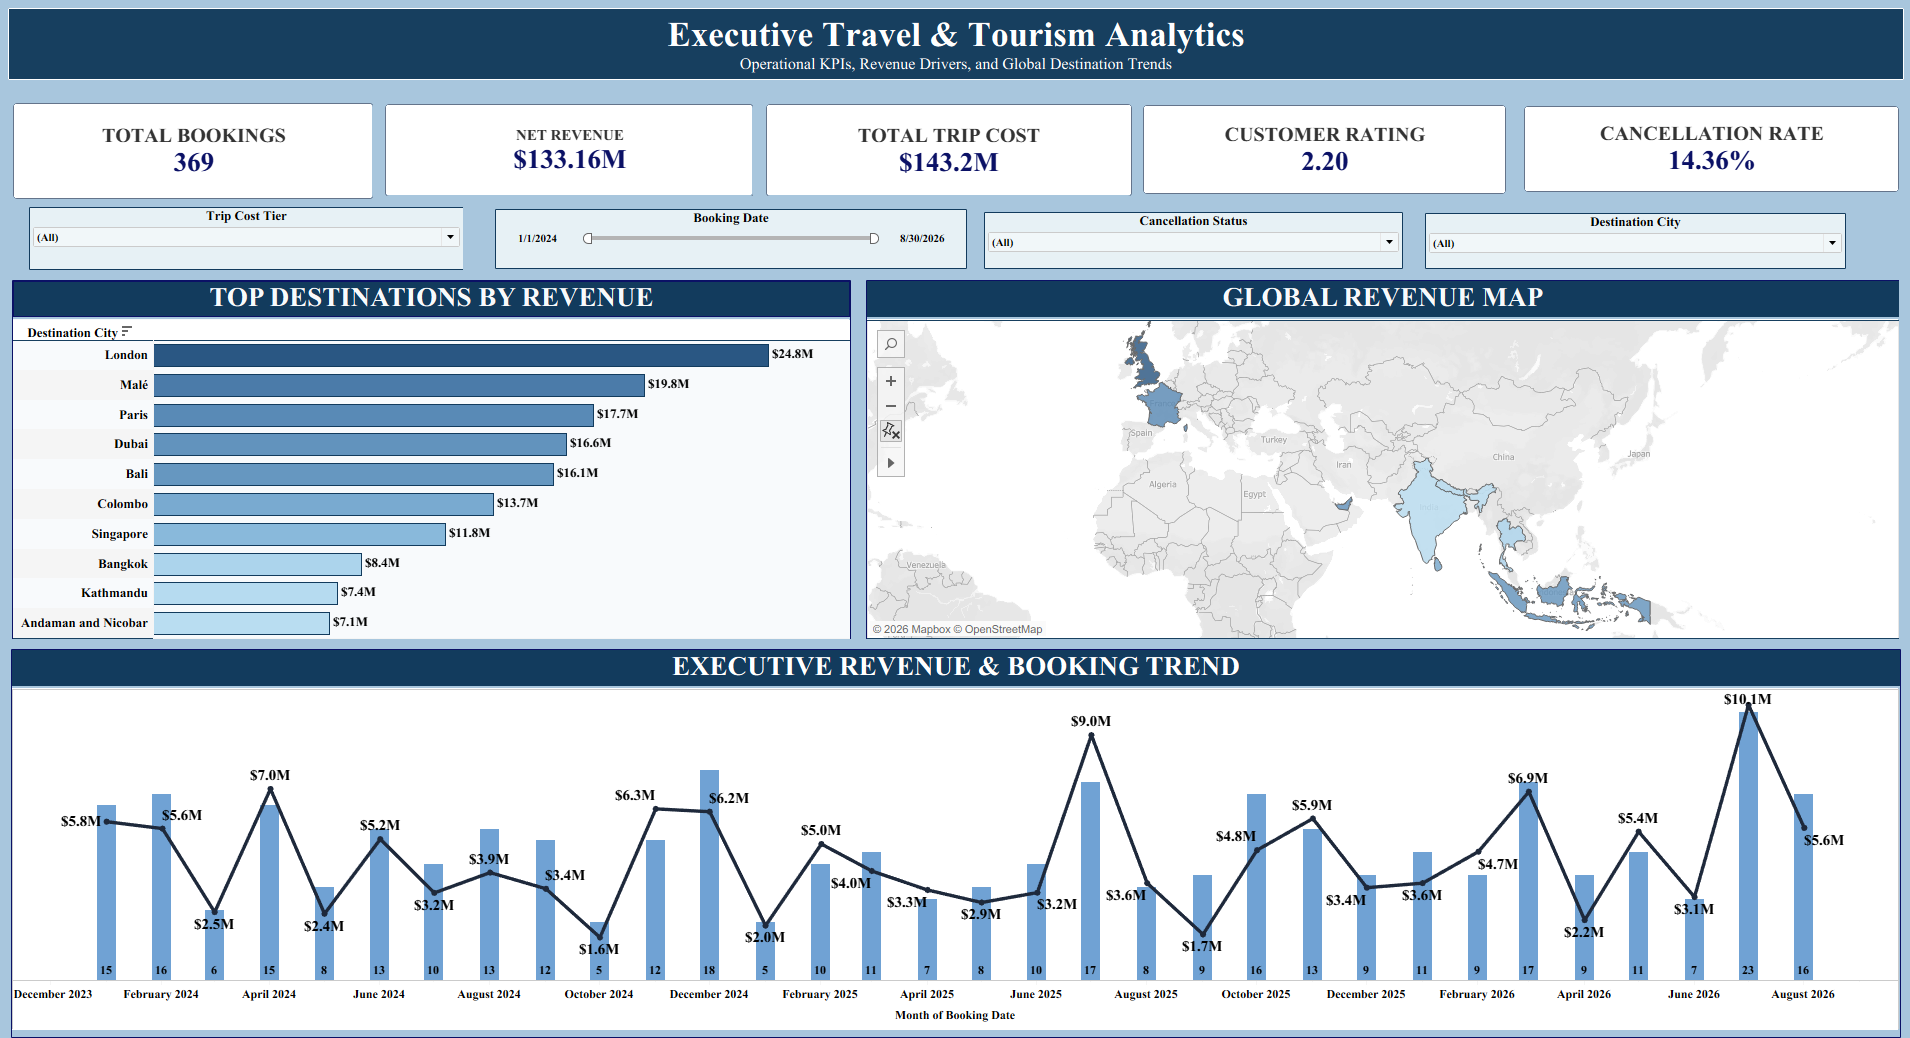

The dashboard page shown, as its layout file describes it:
{"tool":"tableau","page":{"name":"Executive Travel Dashboard","canvas":[1000,1000],"units":"permille","ordinal":1},"visuals":[{"type":"title","box":[4.2,8.9,991.6,89.3]},{"type":"worksheet","title":"kpi- Total bookings","mark":"Automatic","box":[8.8,101.6,187.8,91.5]},{"type":"worksheet","title":"Net Revenue","mark":"Automatic","box":[202.5,102.7,191.9,88.2]},{"type":"worksheet","title":"KPI- Total Trip Cost","mark":"Automatic","box":[400.8,102.7,190.8,88.2]},{"type":"worksheet","title":"Customer Rating","mark":"Automatic","box":[597.4,103.8,189,84.8]},{"type":"worksheet","title":"Cancellation rate","mark":"Automatic","box":[795.8,104.9,195.4,81.5]},{"type":"filter","title":"Top Destinations by Revenue","param":"[federated.03ev4bz1dh5vj71g43w0y11zg9yx].[none:Calculation_1548438591492097:nk]","box":[17,200.9,226.5,60.3]},{"type":"filter","title":"Top Destinations by Revenue","param":"[federated.03ev4bz1dh5vj71g43w0y11zg9yx].[none:Booking_Date:qk]","box":[259.8,203.1,245.8,56.9]},{"type":"filter","title":"Top Destinations by Revenue","param":"[federated.03ev4bz1dh5vj71g43w0y11zg9yx].[none:Cancellation_Status:nk]","box":[514.3,205.4,218.3,54.7]},{"type":"filter","title":"Top Destinations by Revenue","param":"[federated.03ev4bz1dh5vj71g43w0y11zg9yx].[none:Destination_City:nk]","box":[744.3,206.5,219.4,53.6]},{"type":"worksheet","title":"Top Destinations by Revenue","mark":"Automatic","rows":["Destination_City"],"cols":["Total_Trip_Cost"],"box":[8.2,270.1,437.1,342.6]},{"type":"worksheet","title":"Global Revenue Map","mark":"Multipolygon","box":[452.9,270.1,538.3,342.6]},{"type":"worksheet","title":"Executive Revenue & Booking Trend","mark":"Automatic","rows":["Booking_ID","Total_Trip_Cost"],"cols":["Booking_Date"],"box":[8.1,622.1,984.6,370.9]}]}

Visuals, with their boxes on the dashboard's canvas, which has no fixed pixel size, in thousandths of its width and height (x1, y1, x2, y2). These are canvas units, not pixel positions in the 1910x1038 screenshot, which may show the page scaled, cropped or inside an application window:
title: detection(4, 9, 996, 98)
"kpi- Total bookings" worksheet: detection(9, 102, 197, 193)
"Net Revenue" worksheet: detection(202, 103, 394, 191)
"KPI- Total Trip Cost" worksheet: detection(401, 103, 592, 191)
"Customer Rating" worksheet: detection(597, 104, 786, 189)
"Cancellation rate" worksheet: detection(796, 105, 991, 186)
"Top Destinations by Revenue" filter: detection(17, 201, 244, 261)
"Top Destinations by Revenue" filter: detection(260, 203, 506, 260)
"Top Destinations by Revenue" filter: detection(514, 205, 733, 260)
"Top Destinations by Revenue" filter: detection(744, 206, 964, 260)
"Top Destinations by Revenue" worksheet: detection(8, 270, 445, 613)
"Global Revenue Map" worksheet (Multipolygon marks): detection(453, 270, 991, 613)
"Executive Revenue & Booking Trend" worksheet: detection(8, 622, 993, 993)
